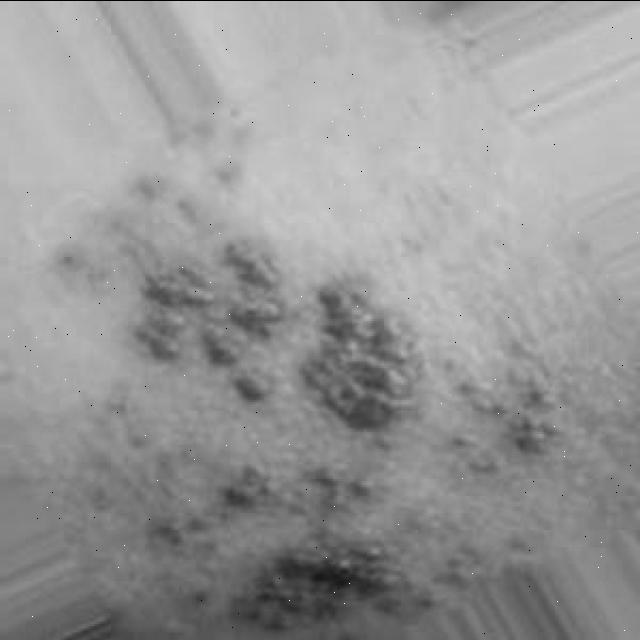Shingles: (133, 242, 419, 430), (226, 462, 414, 619), (448, 347, 560, 467)
